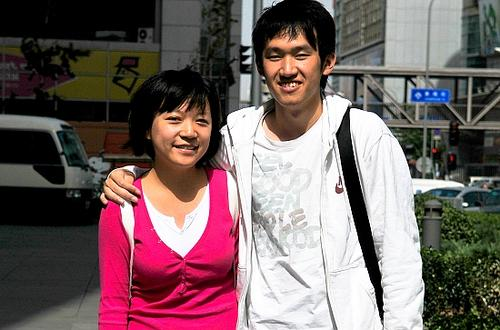no_mask: (252, 2, 340, 112), (127, 65, 217, 170)
